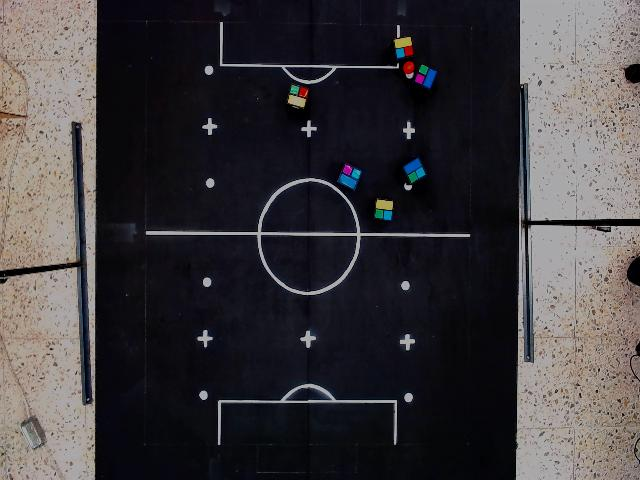robot: (336, 162, 363, 191), (403, 157, 428, 185), (286, 82, 310, 111), (414, 63, 438, 91), (373, 197, 395, 223), (393, 35, 415, 60)
